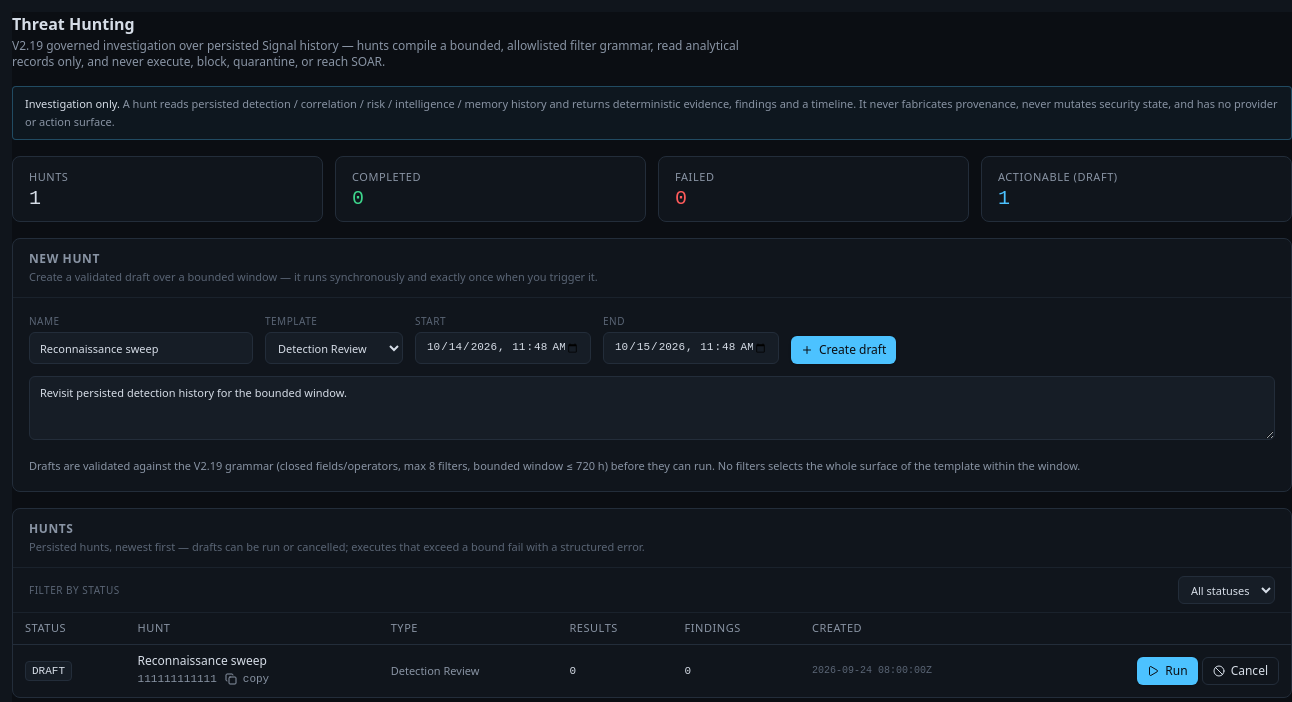
Scenario: ThreatHuntingPage › creates a draft hunt from the form
Expected: the form with test id "hunt-create-form" is shown, [29,314,1275,475]
Replace the text in the field named "Hunt name" with "Indicator sweep" at [141, 348], box [29,332,253,364]
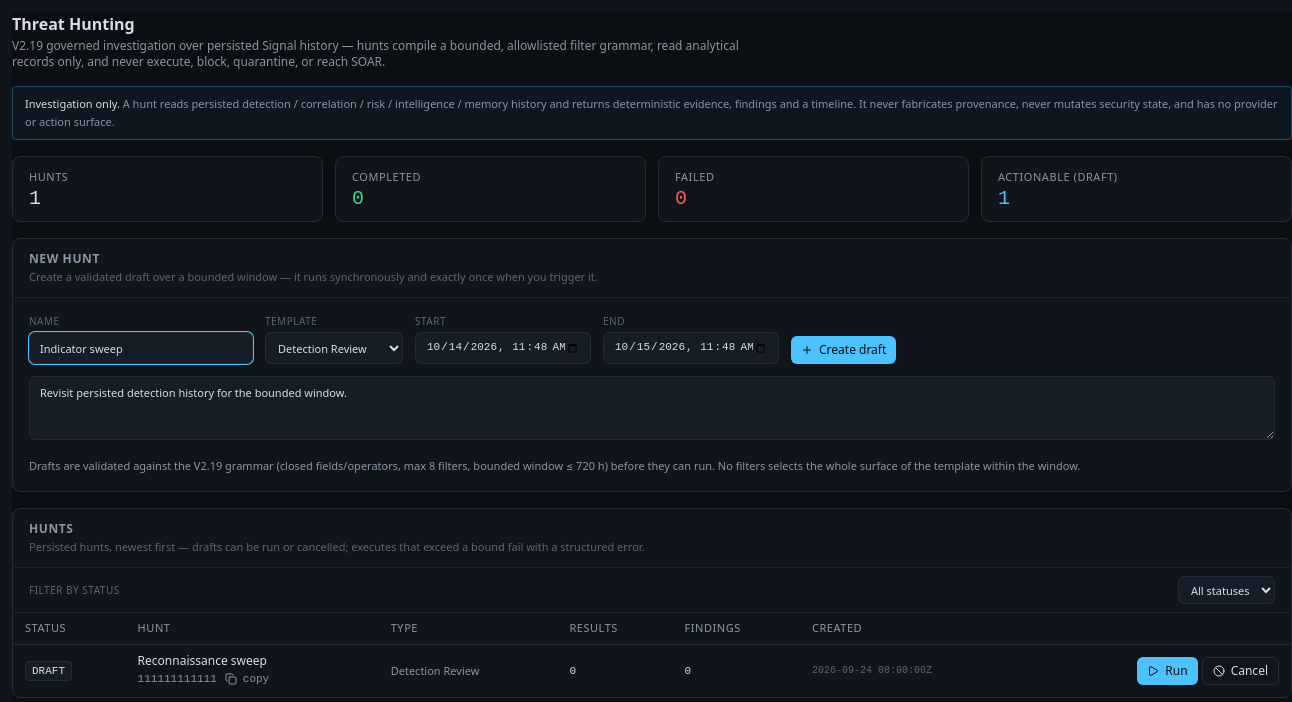
Click the button "Create draft" at [844, 350], box [791,336,896,364]
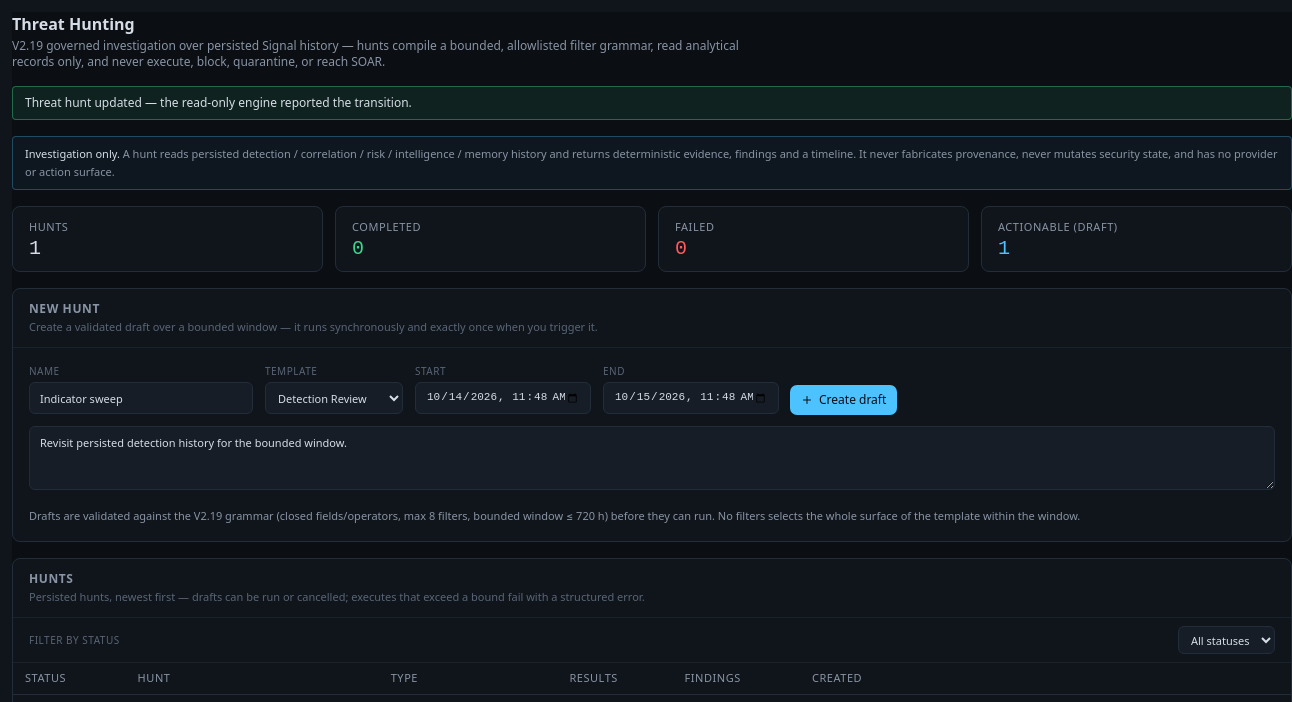
Expected: the text with test id "hunt-notice" is shown, [12,86,1291,120]
